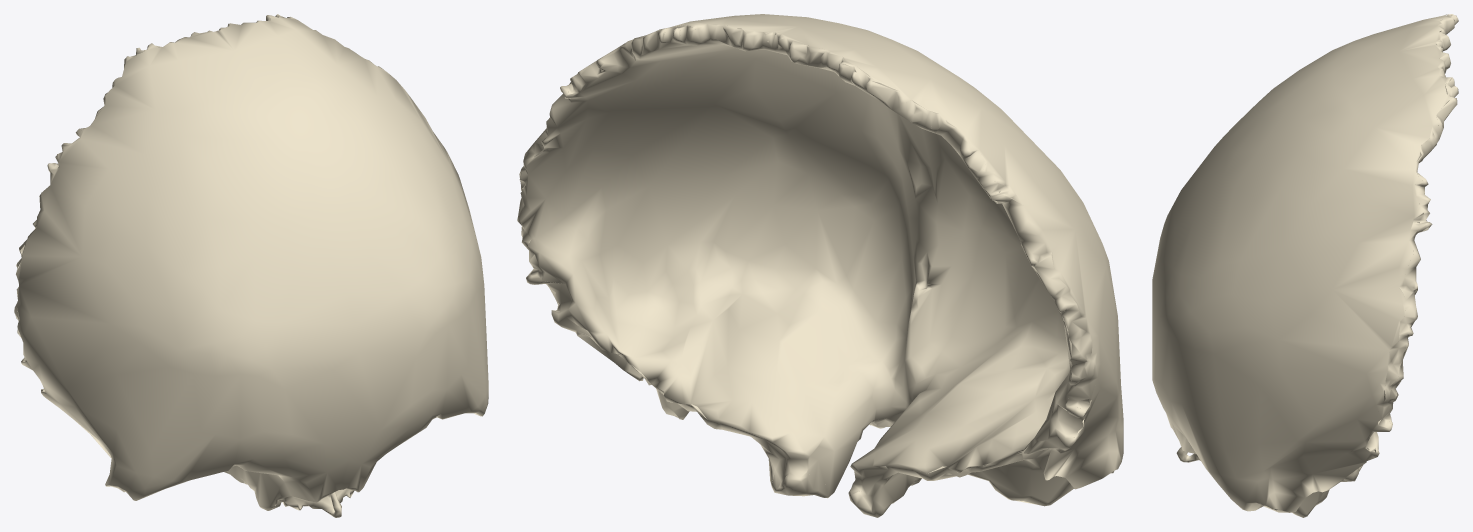
File: esqueleto-frontal-bone.glb
3 renders of one model, left to right at view 1: azimuth 30°, elevation 25°; view 2: azimuth 150°, elevation 25°; view 3: azimuth 270°, elevation 25°, orthographic. The views are drawn at different scales.
Parts seen in each view (by area): view 1: Frontal bone; view 2: Frontal bone; view 3: Frontal bone.
Boxes of the visible parts, bbox=[...] form: Frontal bone: bbox=[14, 14, 488, 517]; Frontal bone: bbox=[517, 14, 1123, 517]; Frontal bone: bbox=[1152, 14, 1458, 517].
Bounding box in the file's own units: 0.1224 × 0.1066 × 0.0689.
